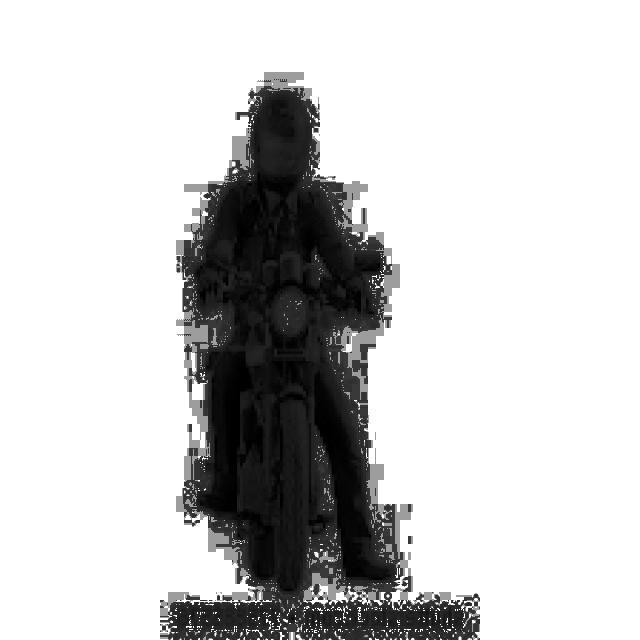Bike: (241, 269, 334, 587)
